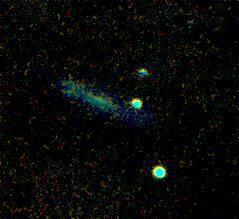star: (74, 77, 104, 107)
